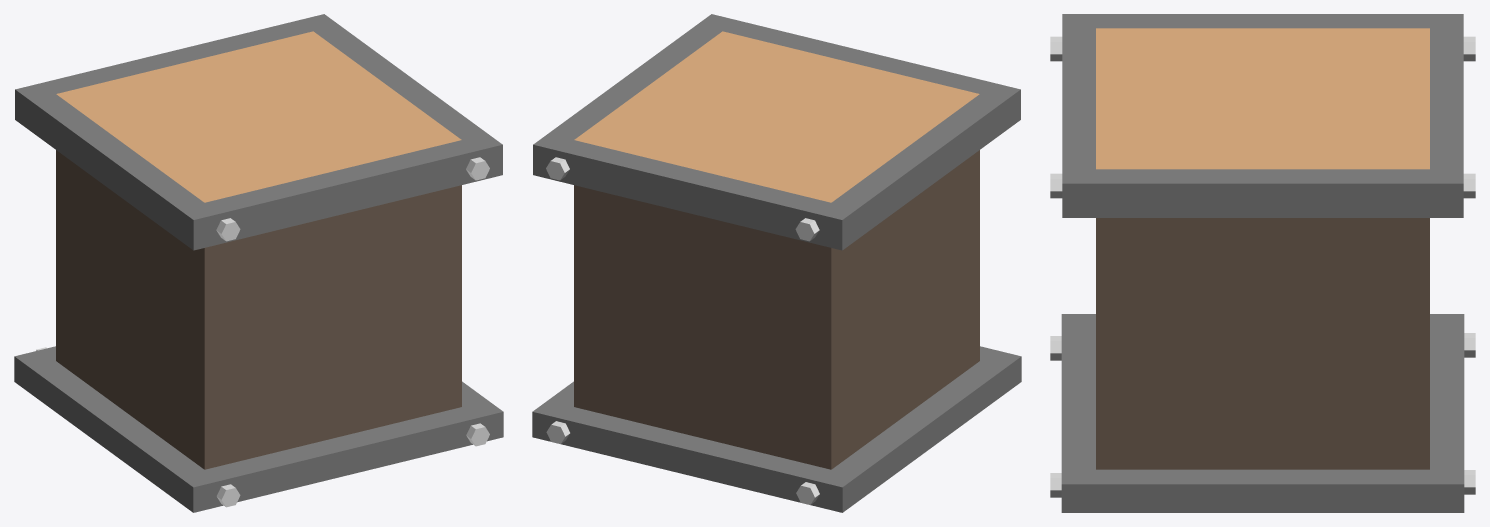
File: SM_Crate01_Closed.fbx
3 renders of one model, left to right at view 1: azimuth 30°, elevation 25°; view 2: azimuth 150°, elevation 25°; view 3: azimuth 270°, elevation 25°, orthographic. The views are drawn at different scales.
Parts seen in each view (by area): view 1: SM_CrateClosed; view 2: SM_CrateClosed; view 3: SM_CrateClosed.
Part boxes in pixels (<box>): SM_CrateClosed: <box>14,14,503,512</box>; SM_CrateClosed: <box>532,14,1021,512</box>; SM_CrateClosed: <box>1050,14,1475,512</box>.
Size of the model in its own units: 102 by 91.96 by 108.
